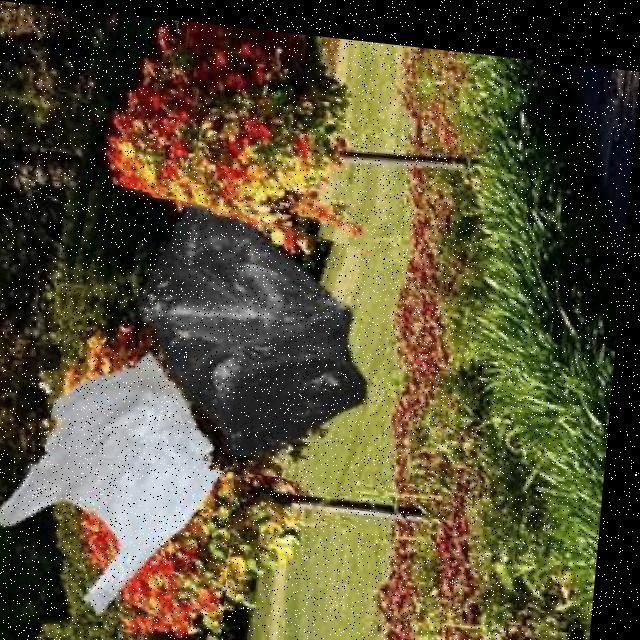plasticcover: (53, 184, 406, 478), (0, 333, 252, 635)
